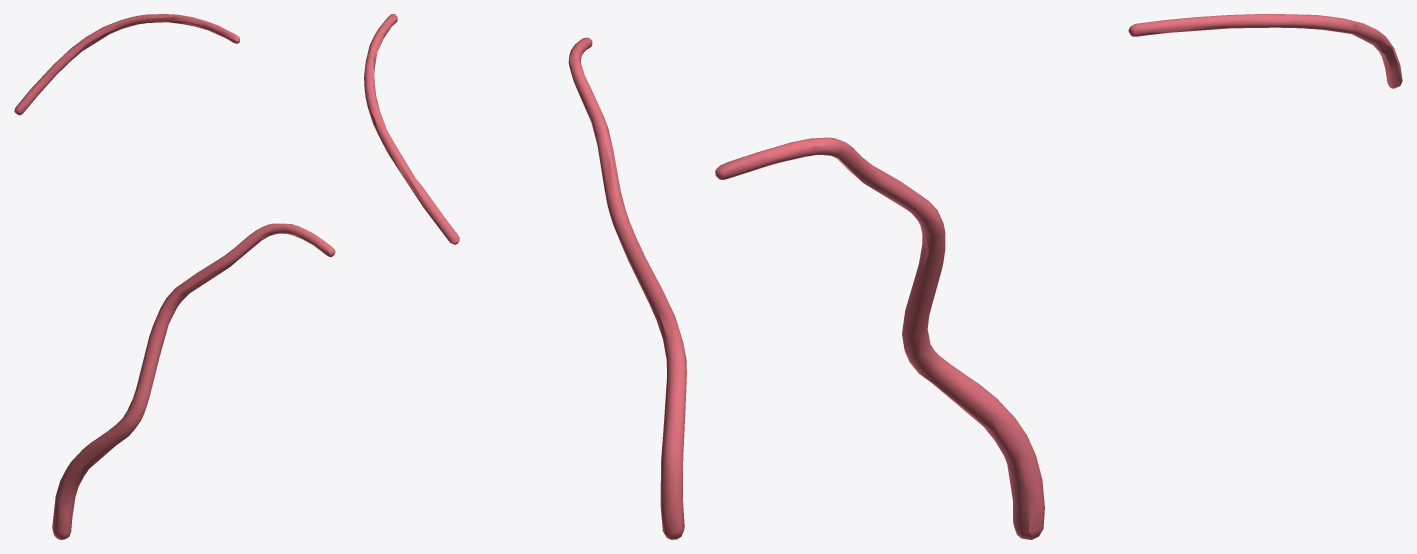
File: fma49673_fj5085.glb
3 renders of one model, left to right at view 1: azimuth 30°, elevation 25°; view 2: azimuth 150°, elevation 25°; view 3: azimuth 270°, elevation 25°, orthographic. The views are drawn at different scales.
Parts seen in each view (by area): view 1: FMA49673_FJ5085; view 2: FMA49673_FJ5085; view 3: FMA49673_FJ5085.
Part boxes in pixels (x1,y1,x2,y2): FMA49673_FJ5085: (14, 14, 335, 539); FMA49673_FJ5085: (364, 14, 686, 539); FMA49673_FJ5085: (715, 14, 1402, 539).
Bounding box in the file's own units: 0.0294 × 0.0547 × 0.0504.
